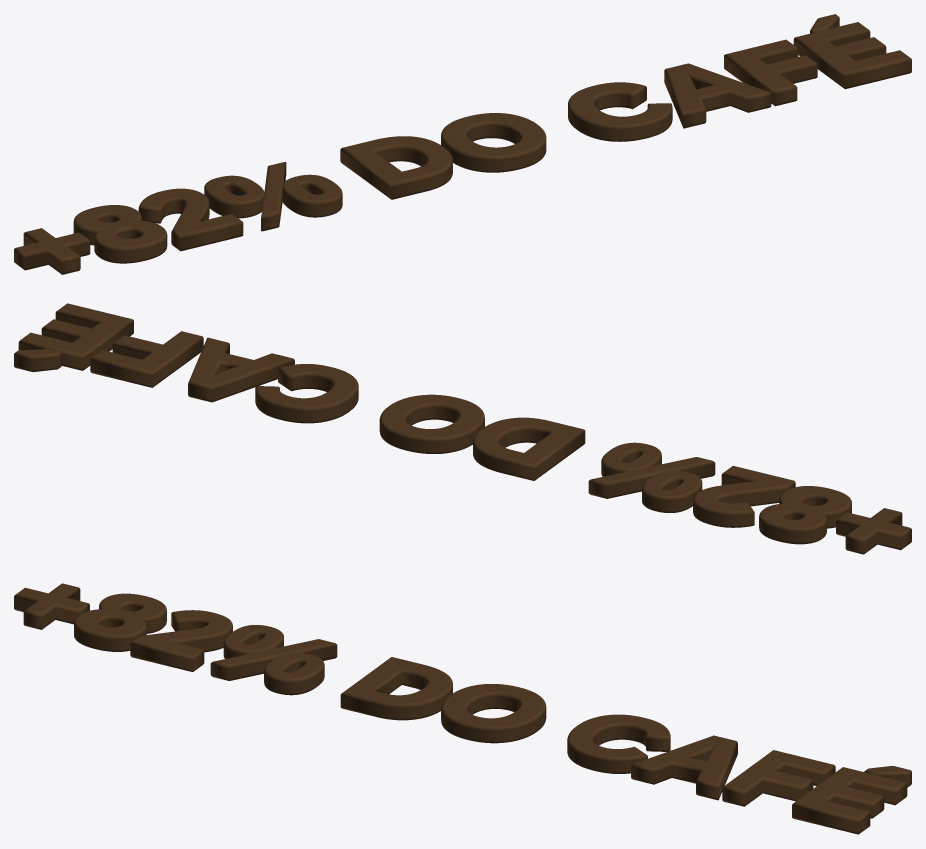
3 views of the same model, one above another, from view 1: azimuth 30°, elevation 25°; view 2: azimuth 150°, elevation 25°; view 3: azimuth 330°, elevation 25° (orthographic).
Visible parts, largest first — view 1: Text 1; view 2: Text 1; view 3: Text 1.
Part boxes in pixels (x1,y1,x2,y2): Text 1: (14,14,911,274); Text 1: (14,303,911,554); Text 1: (14,583,911,834).
Size of the model in its own units: 6.47 by 0.12 by 0.8431.
